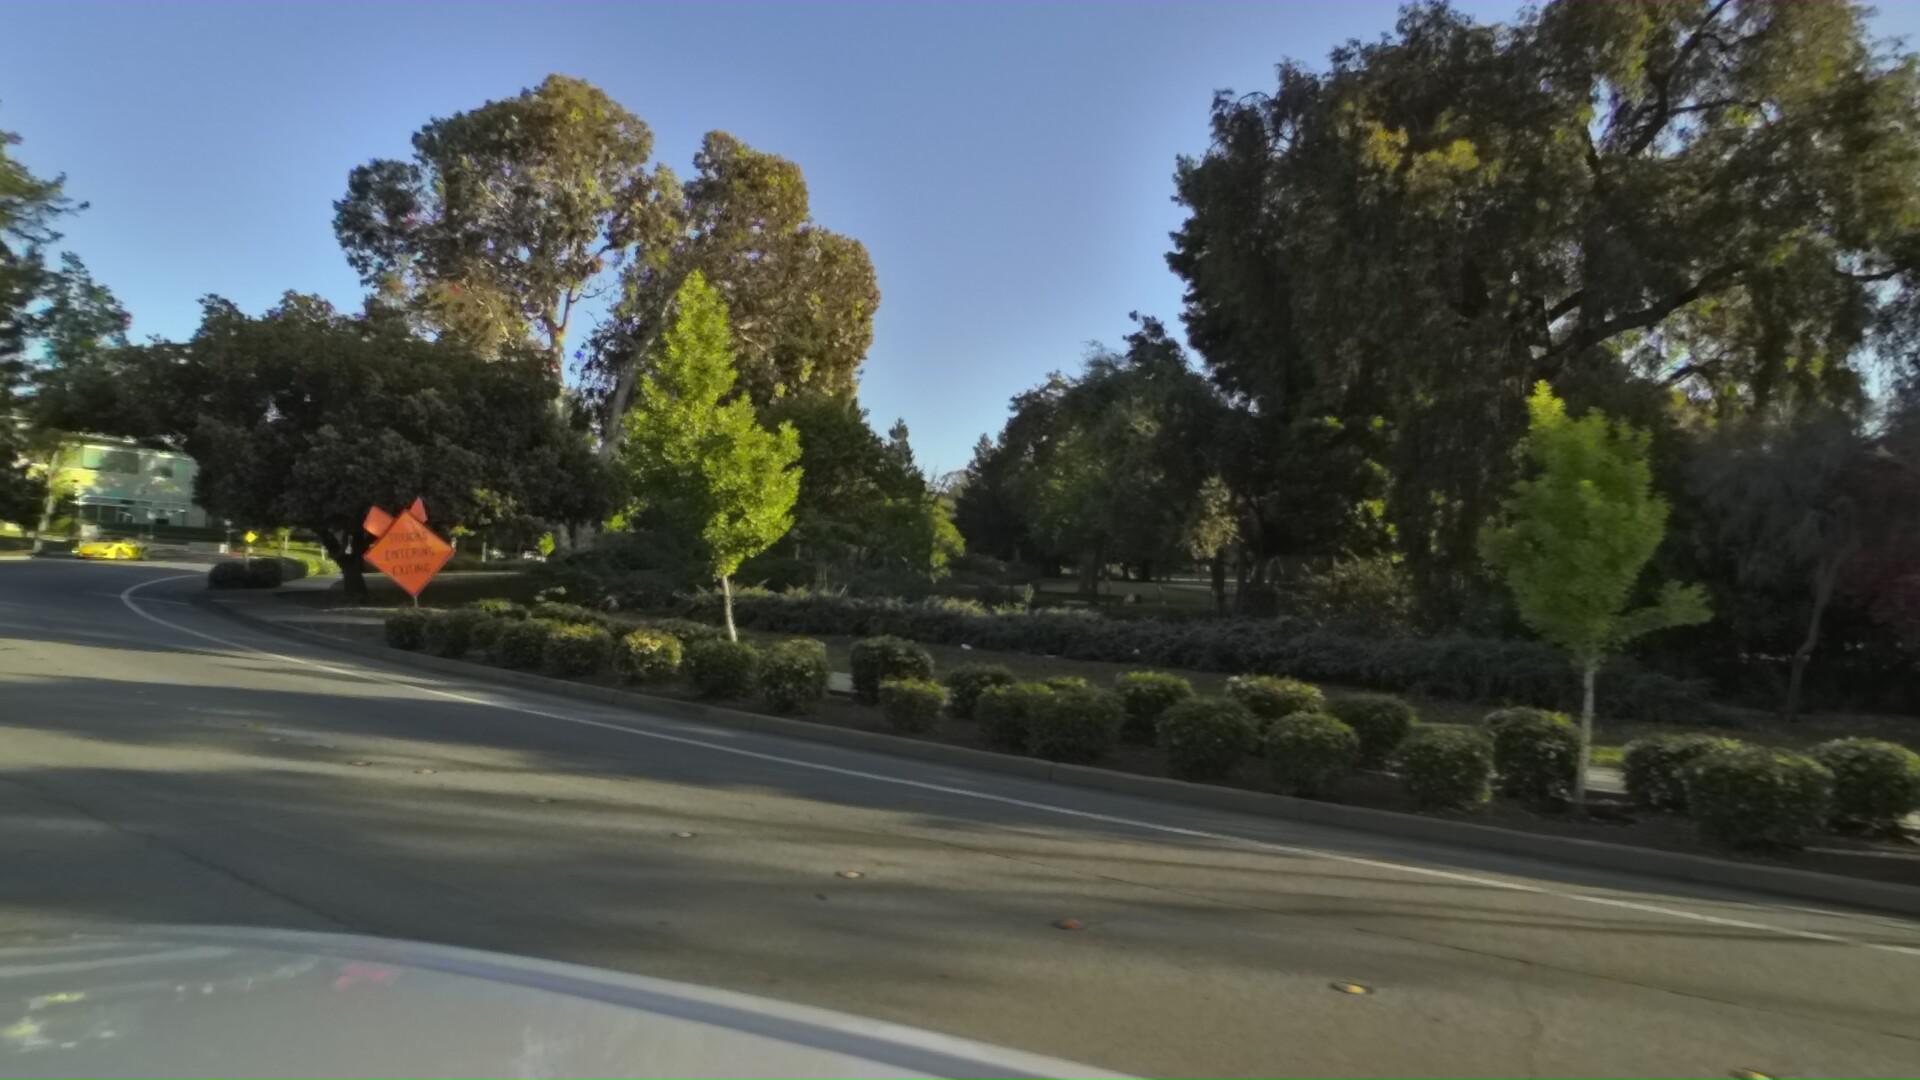car: (58, 526, 156, 560)
